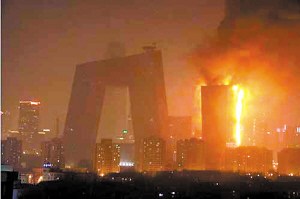fire: (220, 82, 260, 147)
smoke: (193, 3, 296, 75)
